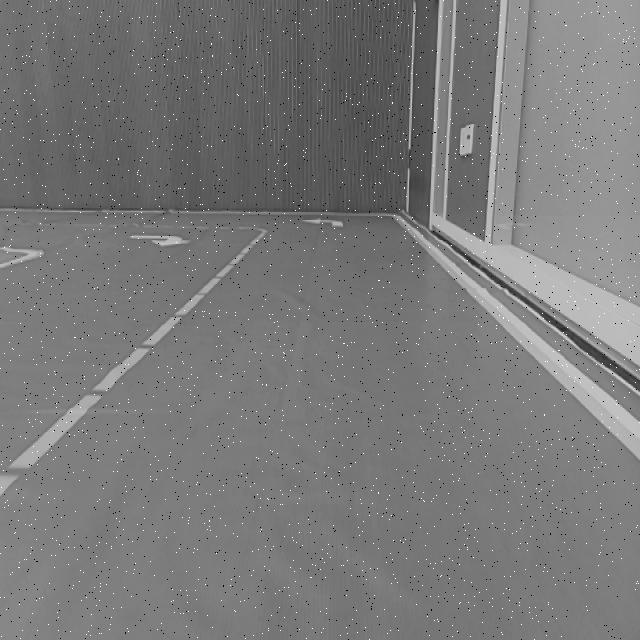left_lane: (0, 236, 266, 502)
right_lane: (392, 213, 640, 459)
